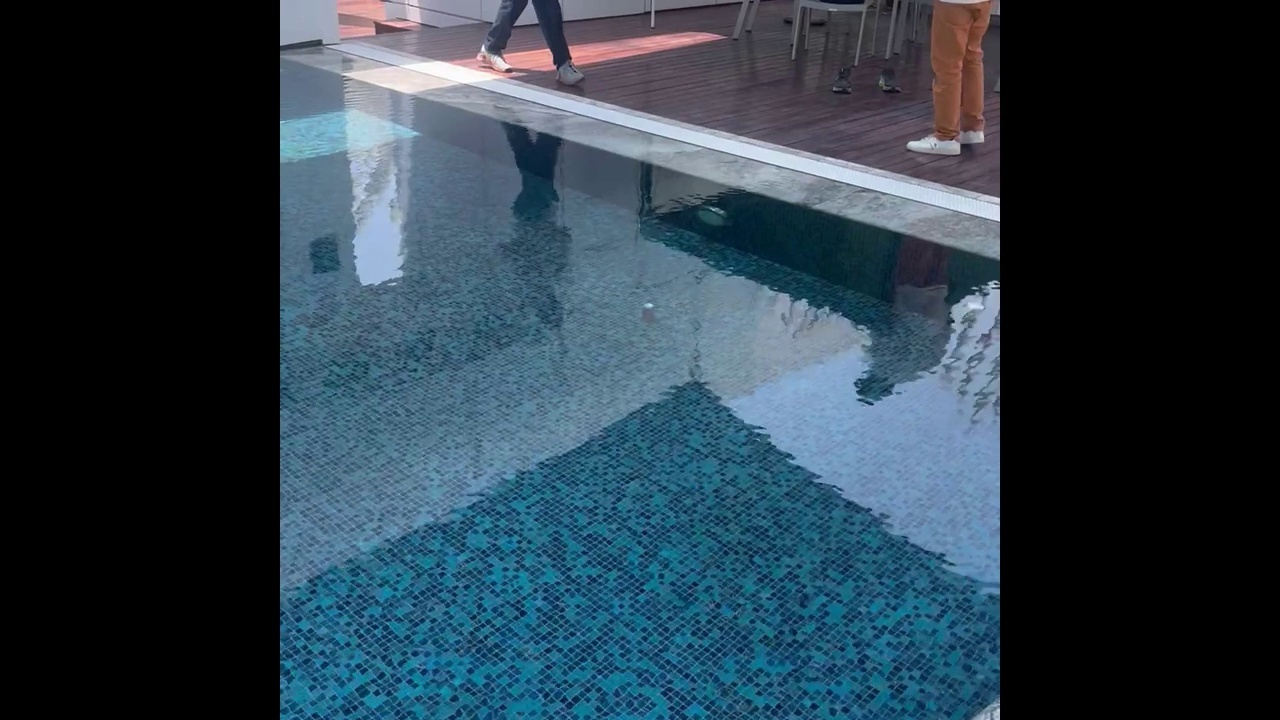debris: (639, 300, 657, 324)
